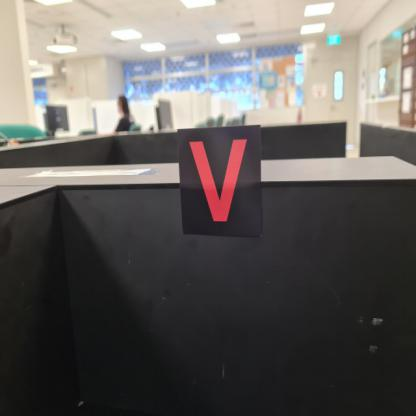v: (177, 126, 262, 238)
